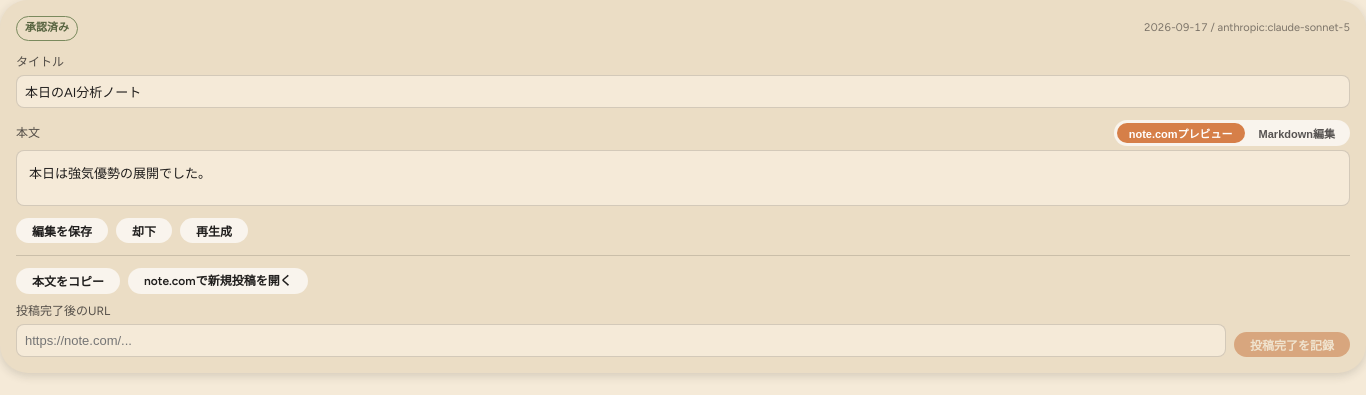
Test: DailyNoteReview › 投稿完了を記録するとURLが保存され読み取り専用表示になる
Expected: the field showing "本日のAI分析ノート" is shown, [16,74,1350,108]
Type "https://note.com/example/n/abc" into the field labelled "投稿完了後のURL" at x=621, y=340, box [16,324,1226,357]
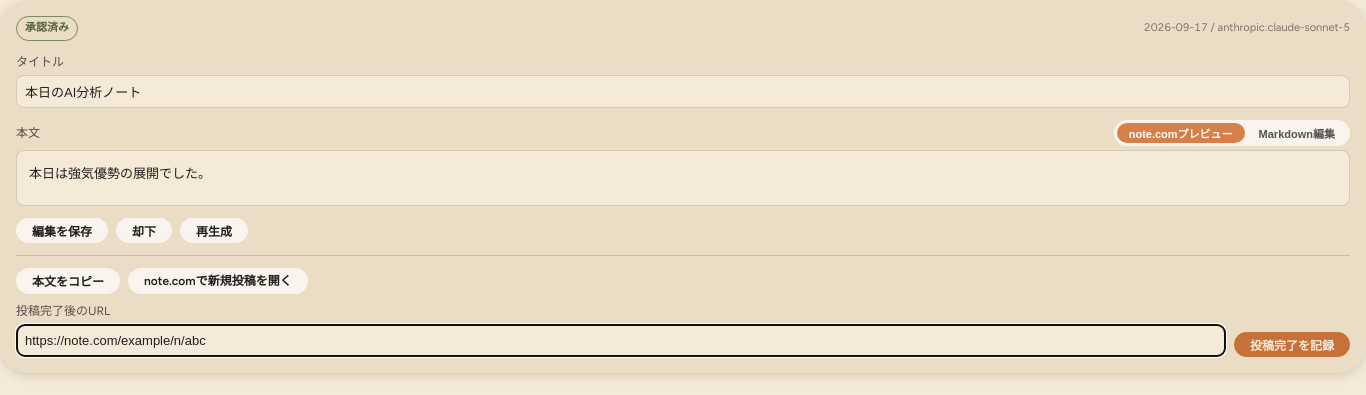
Click the button "投稿完了を記録" at x=1292, y=344, box [1234,332,1350,357]
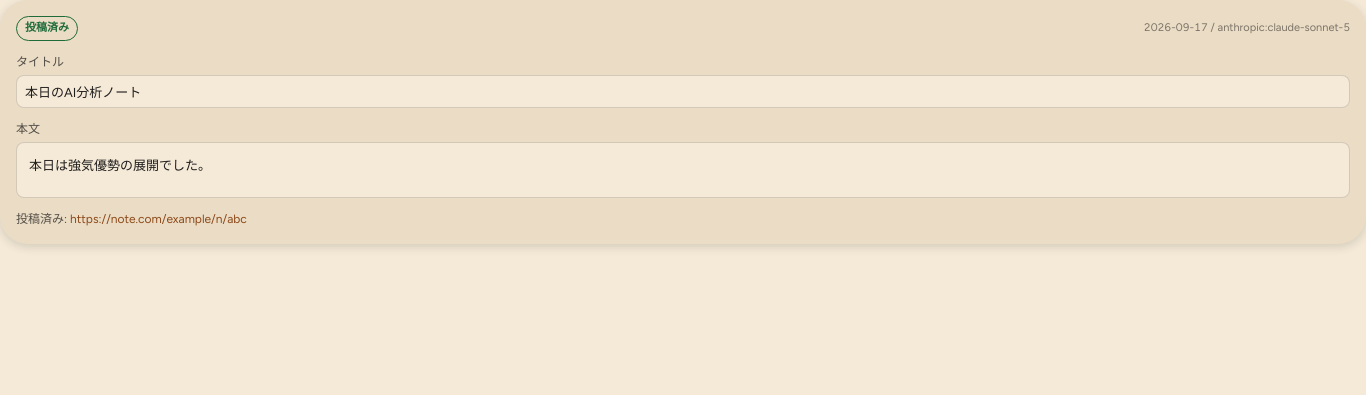
Expected: the link "https://note.com/example/n/abc" is shown, [70,212,247,226]
